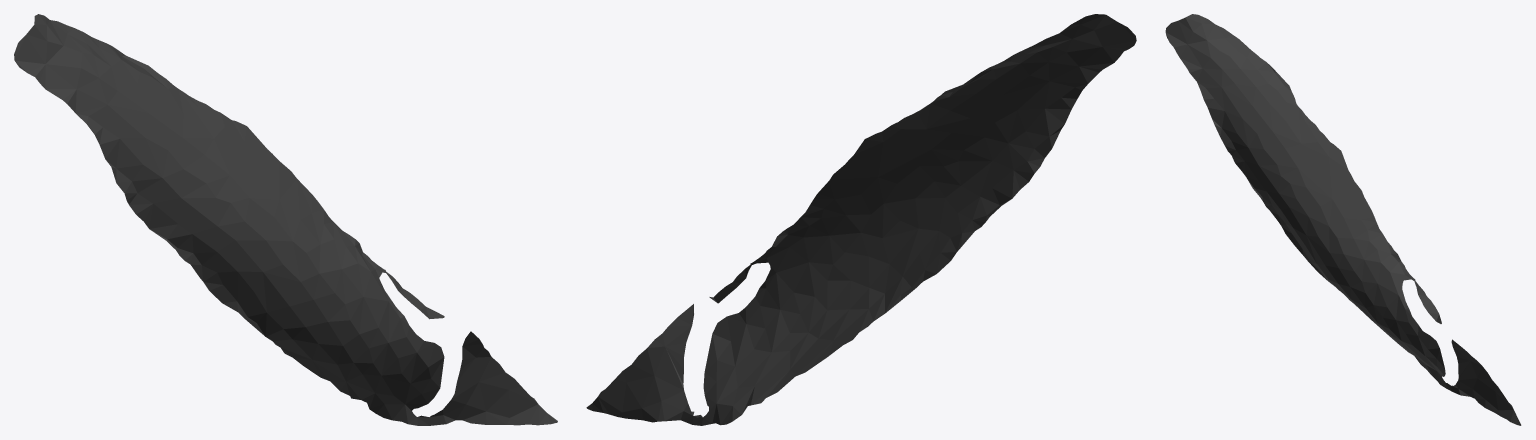
File: M_biceps_brachii_M_biceps_brachii.glb
3 views of the same model, side by side, from view 1: azimuth 30°, elevation 25°; view 2: azimuth 150°, elevation 25°; view 3: azimuth 330°, elevation 25° (orthographic). The views are drawn at different scales.
Visible parts, largest first — view 1: M_biceps_brachii_M_biceps_brachii; view 2: M_biceps_brachii_M_biceps_brachii; view 3: M_biceps_brachii_M_biceps_brachii.
Part boxes in pixels (left/top/right/bottom): M_biceps_brachii_M_biceps_brachii: left=14, top=14, right=557, bottom=425; M_biceps_brachii_M_biceps_brachii: left=586, top=14, right=1136, bottom=425; M_biceps_brachii_M_biceps_brachii: left=1165, top=14, right=1521, bottom=425.
Bounding box in the file's own units: 0.0383 × 0.0352 × 0.00545.
1 material, 1 textured.
